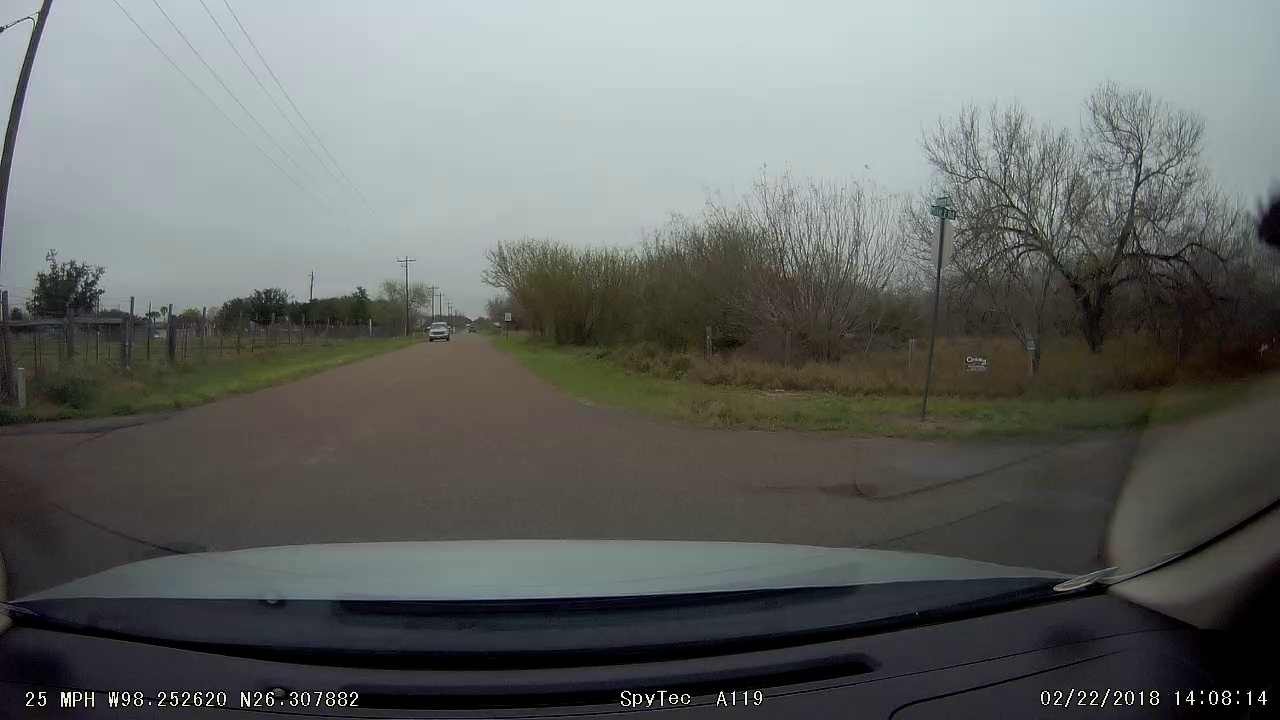pothole: (812, 478, 876, 508)
